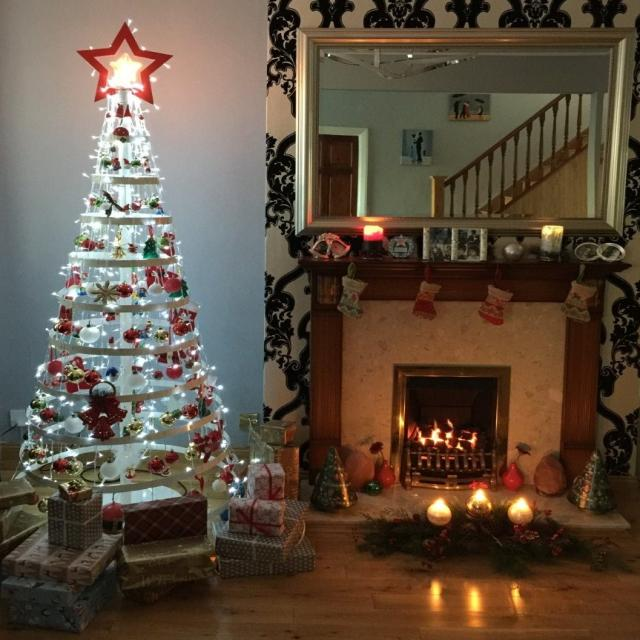Christmas-tree: (11, 12, 236, 476)
